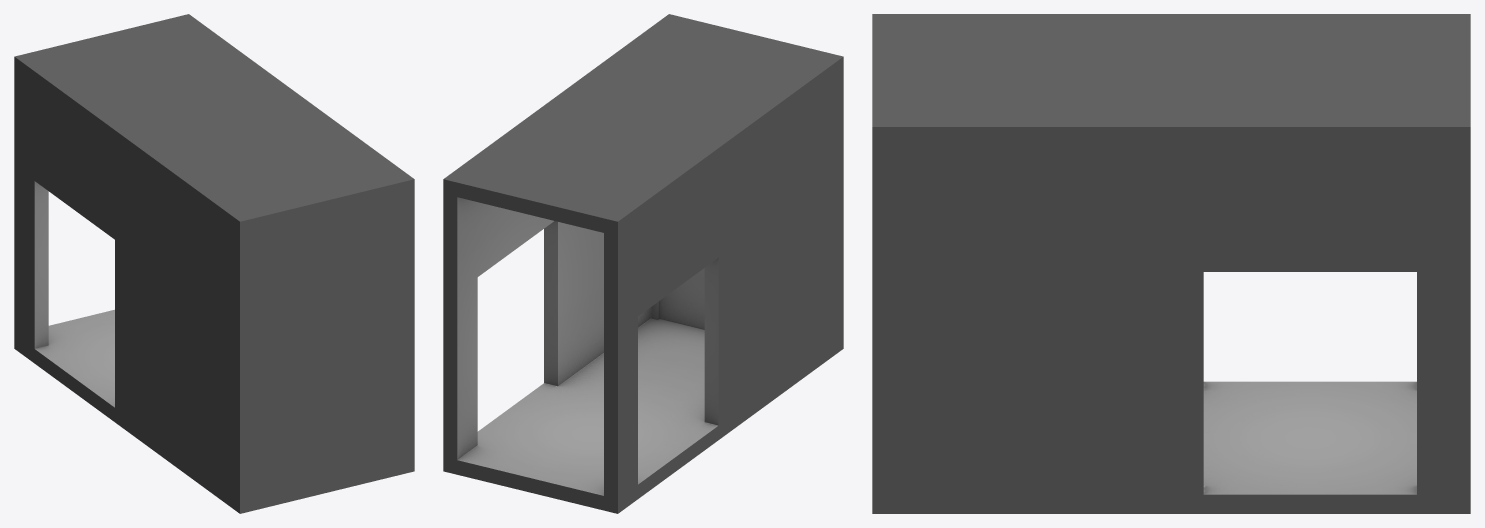
Rendered from Room_Other_Elevator_Sz1.fbx.
3 views of the same model, side by side, from view 1: azimuth 30°, elevation 25°; view 2: azimuth 150°, elevation 25°; view 3: azimuth 270°, elevation 25° (orthographic). The views are drawn at different scales.
Visible parts, largest first — view 1: Room_Other_Elevator_Sz1; view 2: Room_Other_Elevator_Sz1, Door_L; view 3: Room_Other_Elevator_Sz1.
Boxes of the visible parts, box(x1,y1,x2,y2) form: Room_Other_Elevator_Sz1: box(14, 14, 414, 513); Room_Other_Elevator_Sz1: box(443, 14, 843, 513); Door_L: box(659, 268, 704, 329); Room_Other_Elevator_Sz1: box(872, 14, 1470, 513).
Size of the model in its own units: 250 by 400 by 560.
Materials: 1 (1 with a texture image).
